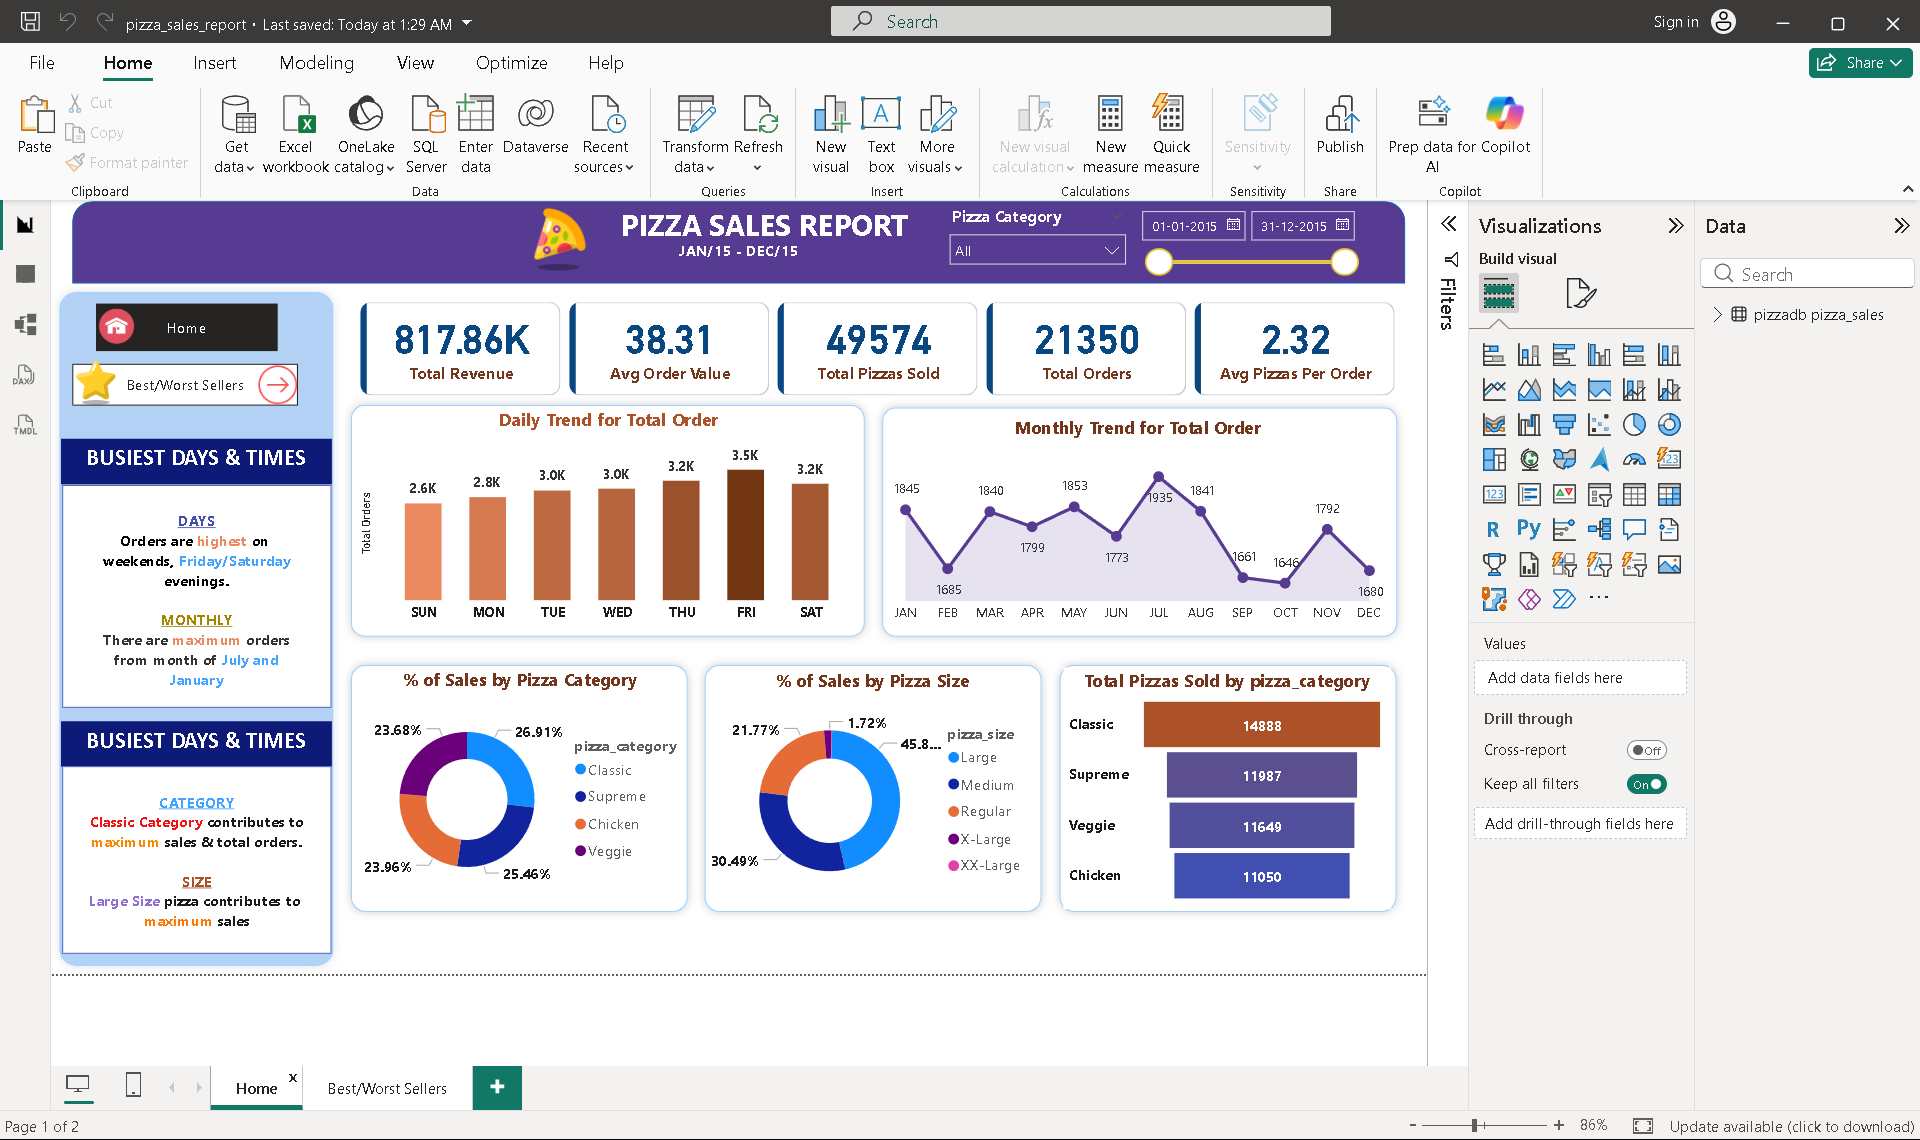

What the dashboard file says about the page in this screenshot:
{"tool":"powerbi","page":{"name":"Home","canvas":[1280,720],"ordinal":0},"visuals":[{"type":"shape","box":[0,77.6,270.6,642.4],"z":0},{"type":"cardVisual","fields":{"Data":["pizzadb pizza_sales.Total Revenue","pizzadb pizza_sales.Avg Order Value","pizzadb pizza_sales.Total Pizzas Sold","pizzadb pizza_sales.Total Orders","pizzadb pizza_sales.Avg Pizzas Per Order"]},"box":[270.6,77.6,1000,121.2],"z":1000},{"type":"shape","box":[20,1.2,1240,76.5],"z":2000},{"type":"textbox","box":[510.6,0,305.9,47.1],"z":3000},{"type":"textbox","box":[575.3,32.9,128.2,34.1],"z":4000},{"type":"image","box":[425.9,0,92.9,65.9],"z":5000},{"type":"shape","box":[270.6,182.4,494.1,231.8],"z":6000},{"type":"textbox","box":[9.4,222.4,251.8,42.4],"z":7000},{"type":"columnChart","title":"Daily Trend for Total Order","fields":{"Category":["pizzadb pizza_sales.Order day"],"Y":["pizzadb pizza_sales.Total Orders"]},"box":[282.4,191.8,471.8,210.6],"z":8000},{"type":"shape","box":[764.7,184.7,495.3,229.4],"z":9000},{"type":"areaChart","title":"Monthly Trend for Total Order","fields":{"Category":["pizzadb pizza_sales.Order Month"],"Y":["pizzadb pizza_sales.Total Orders"]},"box":[774.1,198.8,472.9,203.5],"z":10000},{"type":"shape","box":[270.6,424.7,329.4,245.9],"z":11000},{"type":"shape","box":[600,424.7,329.4,245.9],"z":12000},{"type":"shape","box":[930.6,424.7,329.4,245.9],"z":13000},{"type":"donutChart","title":"% of Sales by Pizza Category","fields":{"Category":["pizzadb pizza_sales.pizza_category"],"Y":["pizzadb pizza_sales.Total Revenue"]},"box":[282.4,434.1,308.2,225.9],"z":14000},{"type":"donutChart","title":"% of Sales by Pizza Size","fields":{"Y":["pizzadb pizza_sales.Total Revenue"],"Category":["pizzadb pizza_sales.pizza_size"]},"box":[610.6,435.3,308.2,225.9],"z":15000},{"type":"funnel","fields":{"Category":["pizzadb pizza_sales.pizza_category"],"Y":["pizzadb pizza_sales.Total Pizzas Sold"]},"box":[942.4,435.3,304.7,224.7],"z":16000},{"type":"textbox","box":[10.6,264.7,250.6,207.1],"z":17000},{"type":"textbox","box":[9.4,484.7,251.8,42.4],"z":18000},{"type":"textbox","box":[10.6,527.1,250.6,174.1],"z":19000},{"type":"slicer","fields":{"Values":["pizzadb pizza_sales.pizza_category"]},"box":[825.9,0,184.7,64.7],"z":20000},{"type":"slicer","fields":{"Values":["pizzadb pizza_sales.order_date"]},"box":[1002.4,0,222.4,77.6],"z":21000},{"type":"pageNavigator","box":[41.9,96.5,169.8,44.2],"z":21001},{"type":"pageNavigator","box":[19.8,152.3,210.5,39.5],"z":21002},{"type":"image","box":[44.2,94.2,33.7,46.5],"z":21003},{"type":"image","box":[182.6,152.3,57,39.5],"z":21004},{"type":"image","box":[19.8,138.4,44.2,59.3],"z":21005}]}

Visuals, with their boxes on the page's 1280x720 design canvas (x1, y1, x2, y2). These are canvas units, not pixel positions in the 1920x1140 screenshot, which may show the page scaled, cropped or inside an application window:
shape: pyautogui.locateOnScreen(0, 78, 271, 720)
cardVisual - pizzadb pizza_sales.Total Revenue x pizzadb pizza_sales.Avg Order Value: pyautogui.locateOnScreen(271, 78, 1271, 199)
shape: pyautogui.locateOnScreen(20, 1, 1260, 78)
textbox: pyautogui.locateOnScreen(511, 0, 816, 47)
textbox: pyautogui.locateOnScreen(575, 33, 704, 67)
image: pyautogui.locateOnScreen(426, 0, 519, 66)
shape: pyautogui.locateOnScreen(271, 182, 765, 414)
textbox: pyautogui.locateOnScreen(9, 222, 261, 265)
"Daily Trend for Total Order" columnChart: pyautogui.locateOnScreen(282, 192, 754, 402)
shape: pyautogui.locateOnScreen(765, 185, 1260, 414)
"Monthly Trend for Total Order" areaChart: pyautogui.locateOnScreen(774, 199, 1247, 402)
shape: pyautogui.locateOnScreen(271, 425, 600, 671)
shape: pyautogui.locateOnScreen(600, 425, 929, 671)
shape: pyautogui.locateOnScreen(931, 425, 1260, 671)
"% of Sales by Pizza Category" donutChart: pyautogui.locateOnScreen(282, 434, 591, 660)
"% of Sales by Pizza Size" donutChart: pyautogui.locateOnScreen(611, 435, 919, 661)
funnel - pizzadb pizza_sales.pizza_category x pizzadb pizza_sales.Total Pizzas Sold: pyautogui.locateOnScreen(942, 435, 1247, 660)
textbox: pyautogui.locateOnScreen(11, 265, 261, 472)
textbox: pyautogui.locateOnScreen(9, 485, 261, 527)
textbox: pyautogui.locateOnScreen(11, 527, 261, 701)
slicer - pizzadb pizza_sales.pizza_category: pyautogui.locateOnScreen(826, 0, 1011, 65)
slicer - pizzadb pizza_sales.order_date: pyautogui.locateOnScreen(1002, 0, 1225, 78)
pageNavigator: pyautogui.locateOnScreen(42, 96, 212, 141)
pageNavigator: pyautogui.locateOnScreen(20, 152, 230, 192)
image: pyautogui.locateOnScreen(44, 94, 78, 141)
image: pyautogui.locateOnScreen(183, 152, 240, 192)
image: pyautogui.locateOnScreen(20, 138, 64, 198)
